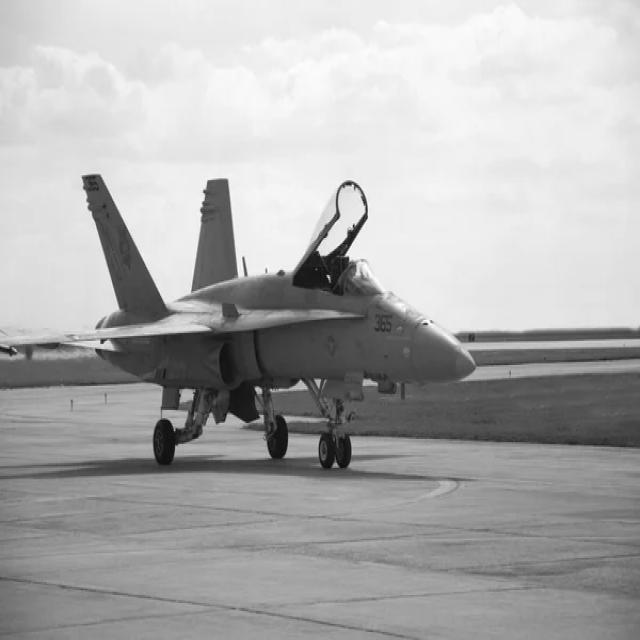Aircraft: (8, 158, 484, 476)
